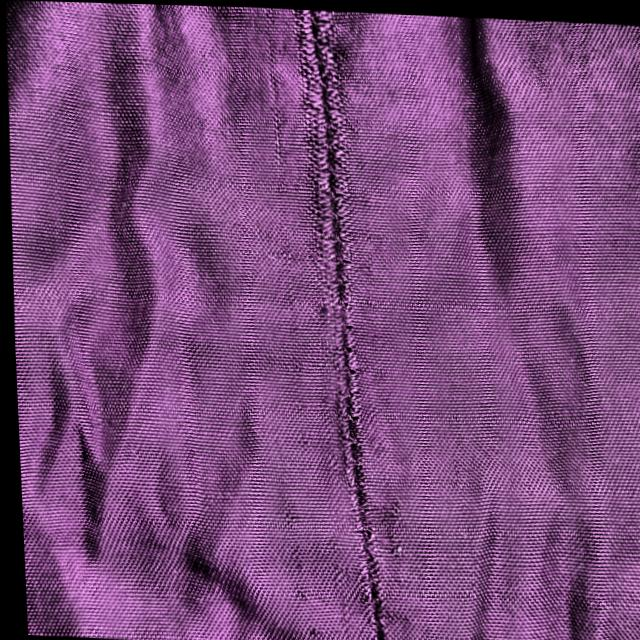seam: (277, 6, 376, 498)
